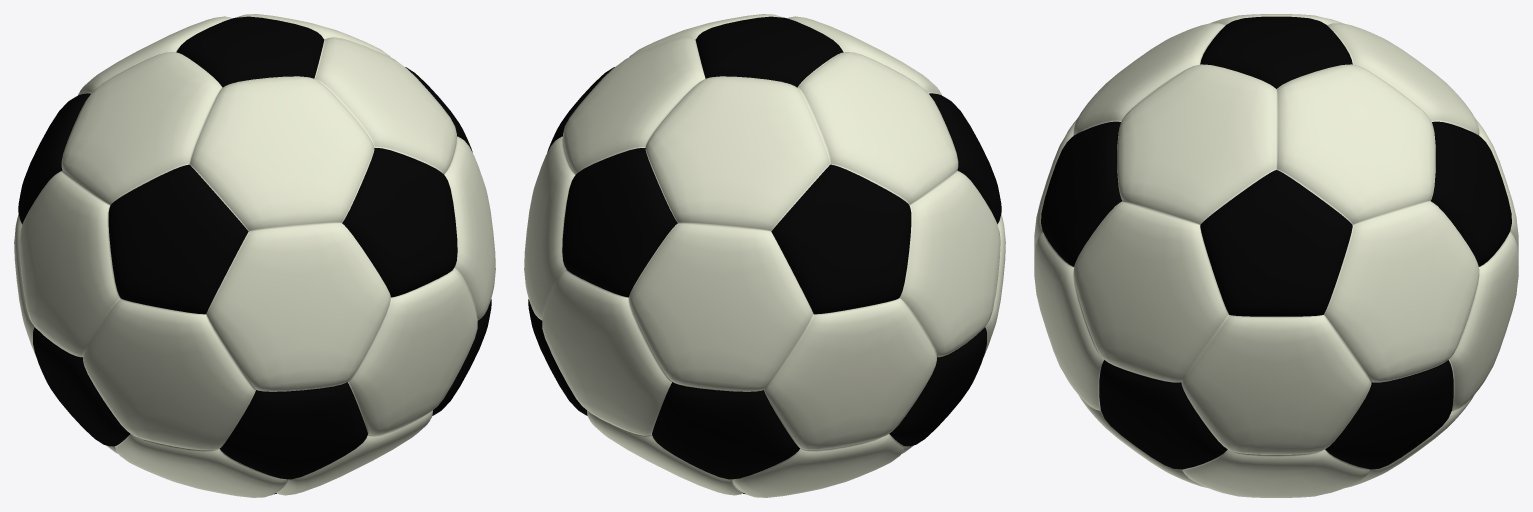
Rendered from Balon.fbx.
The picture shows the model from 3 angles, left to right: view 1: azimuth 30°, elevation 25°; view 2: azimuth 150°, elevation 25°; view 3: azimuth 270°, elevation 25°; orthographic projection.
Parts seen in each view (by area): view 1: Icosphere; view 2: Icosphere; view 3: Icosphere.
Boxes of the visible parts, left/top/right/bottom form: Icosphere: left=14, top=14, right=495, bottom=497; Icosphere: left=524, top=14, right=1005, bottom=497; Icosphere: left=1034, top=14, right=1518, bottom=497.
Bounding box in the file's own units: 165 × 166 × 165.
